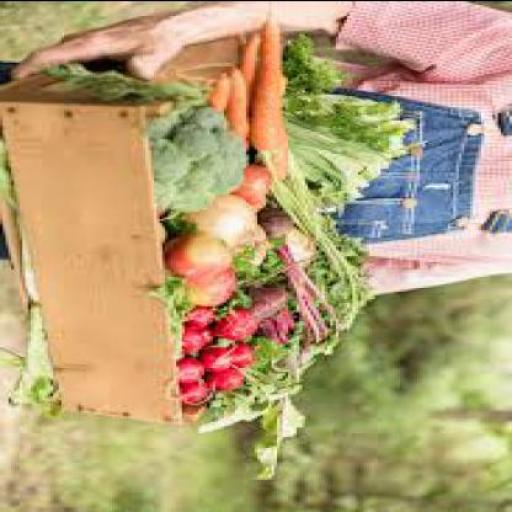biodegradable: (291, 30, 423, 209), (274, 179, 378, 326), (156, 100, 252, 212), (263, 236, 347, 363), (252, 318, 313, 481), (255, 13, 294, 180), (232, 60, 269, 205), (42, 60, 187, 93), (187, 192, 263, 246), (199, 382, 280, 430), (168, 230, 234, 280), (151, 272, 190, 350), (249, 282, 296, 340), (185, 266, 241, 304), (235, 160, 277, 209), (241, 30, 265, 113), (213, 305, 260, 337), (184, 319, 218, 352), (263, 207, 297, 239), (184, 376, 222, 402), (201, 342, 238, 368), (208, 365, 250, 387), (179, 352, 210, 380), (212, 66, 232, 108), (162, 208, 196, 230), (238, 341, 257, 363), (193, 306, 218, 322)
